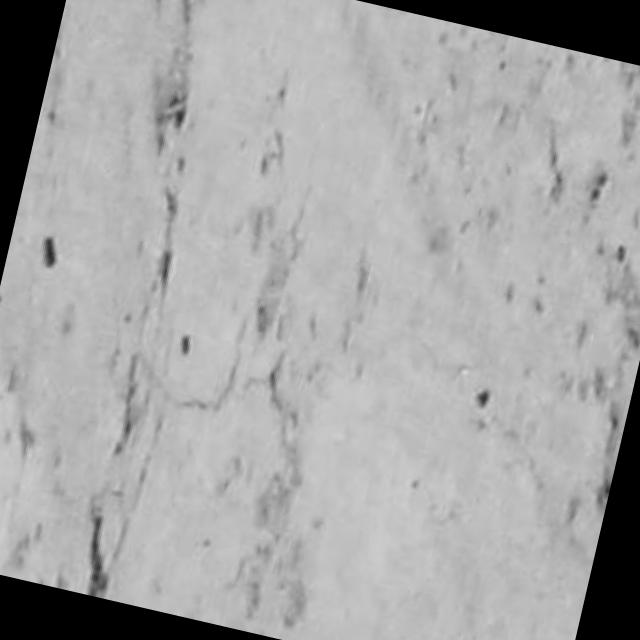crack: (88, 511, 109, 597)
